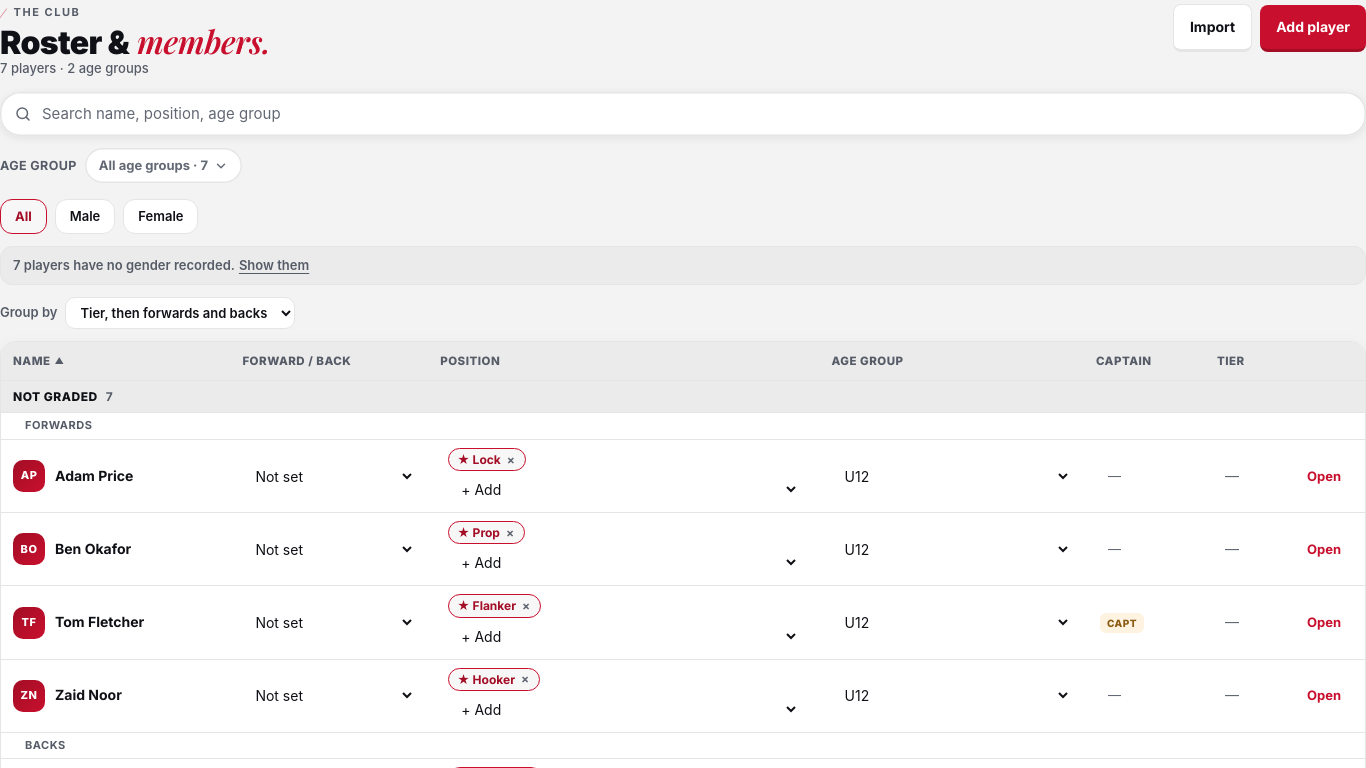
it: Roster — team filter pill counts › narrows the counts to the search
The image size is (1366, 768).
Check: the text "Tom Fletcher" is shown, box [55,611,144,634]
Type "craig" into the search field.
click(697, 114); type("craig")  # box [42,102,1352,126]
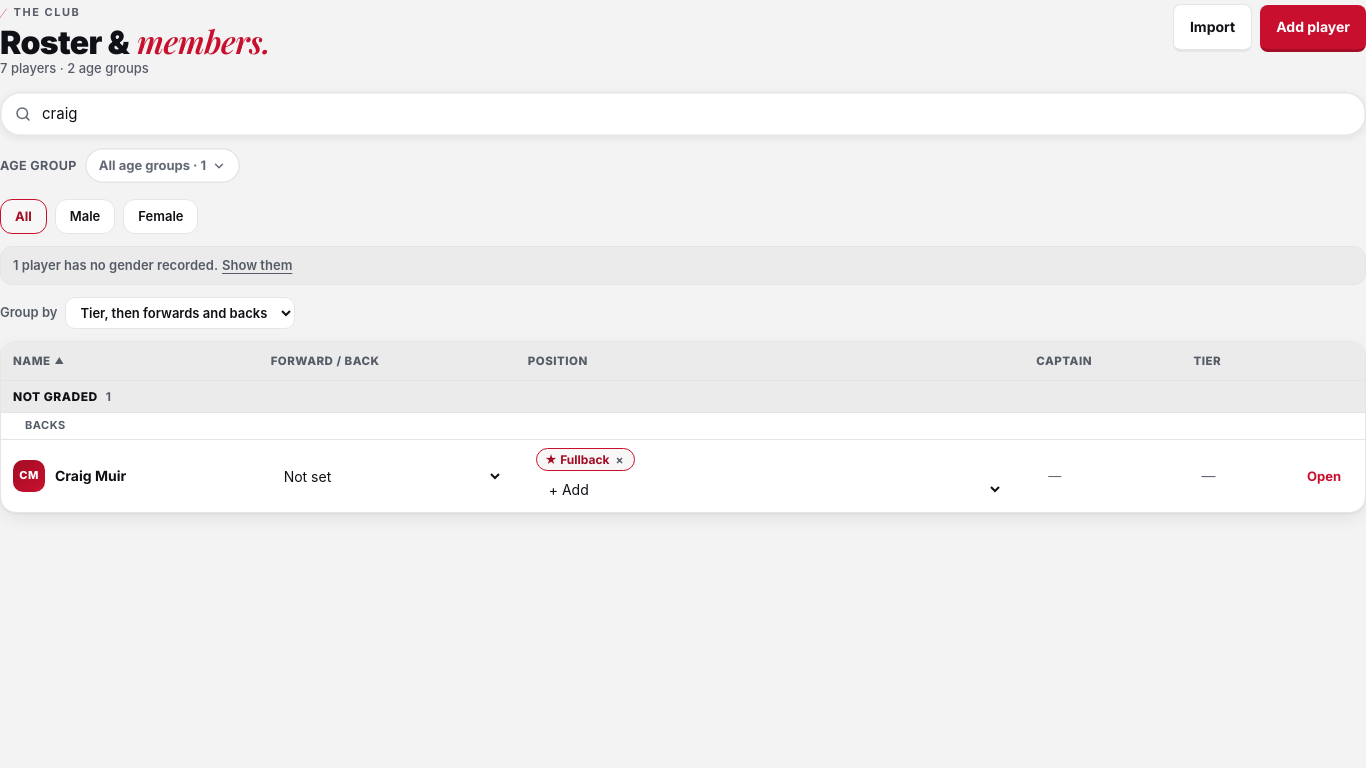
Click the dropdown labelled "All age groups · 1".
click(162, 166)  # box [85,148,240,183]
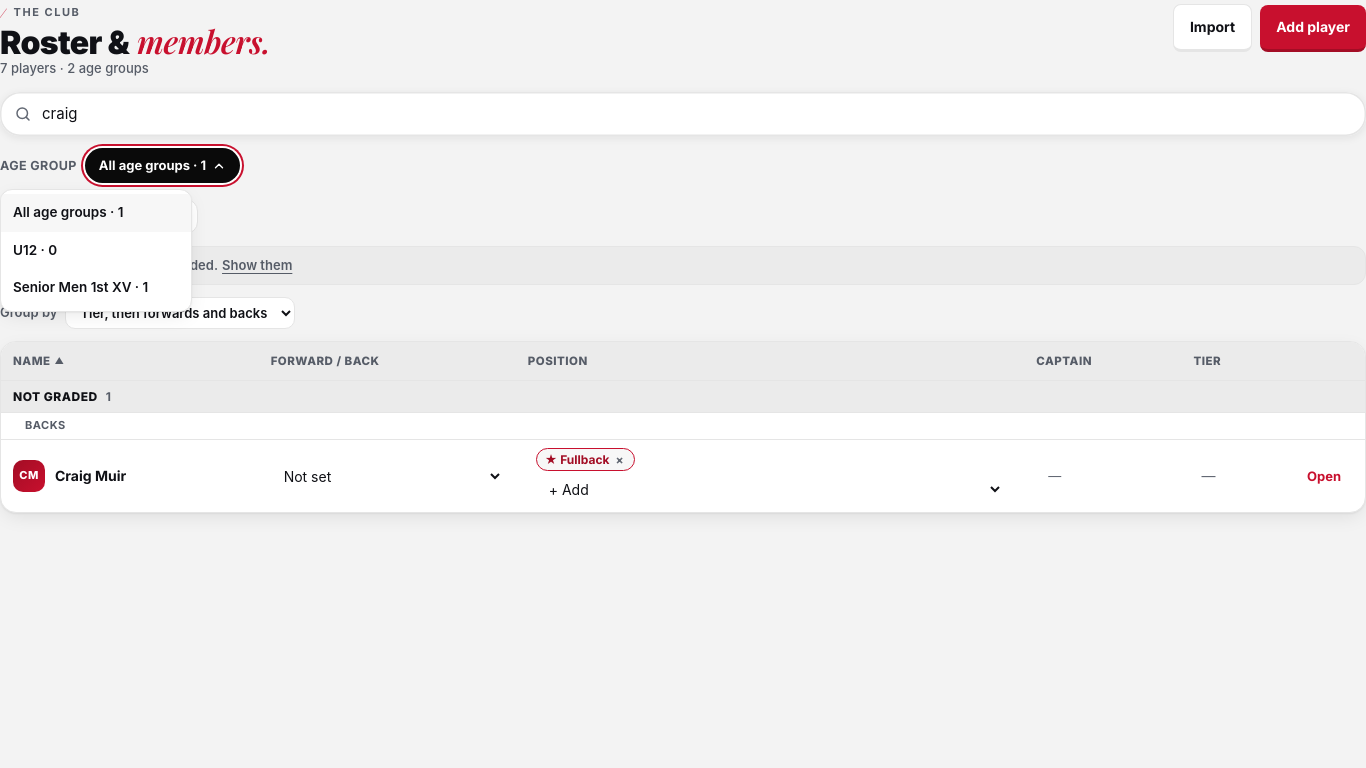
Check: the option "All age groups · 1" is shown, box [1,194,191,232]
Check: the option "U12 · 0" is shown, box [1,232,191,270]
Check: the option "Senior Men 1st XV · 1" is shown, box [1,270,191,307]
